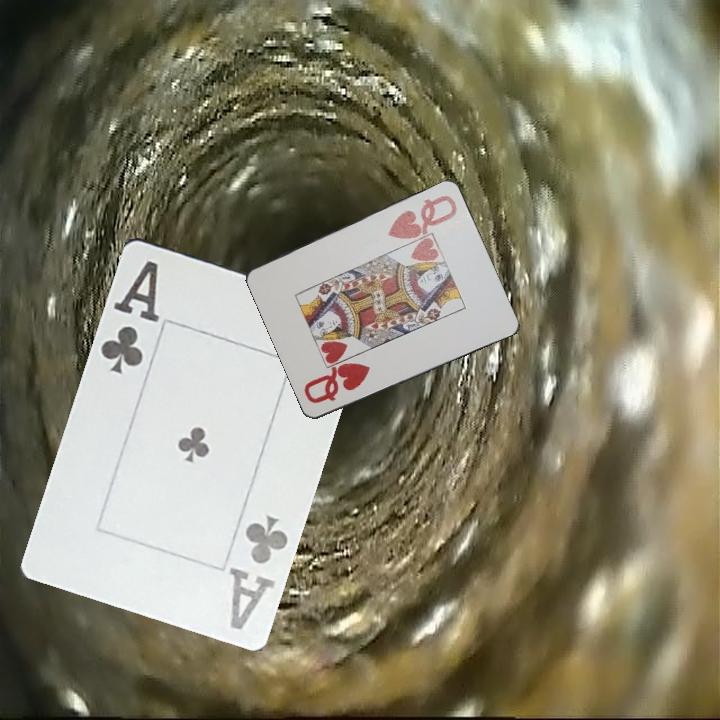Ac: (94, 256, 162, 377), (225, 510, 291, 632)
Qh: (384, 191, 460, 243), (301, 359, 373, 406)
